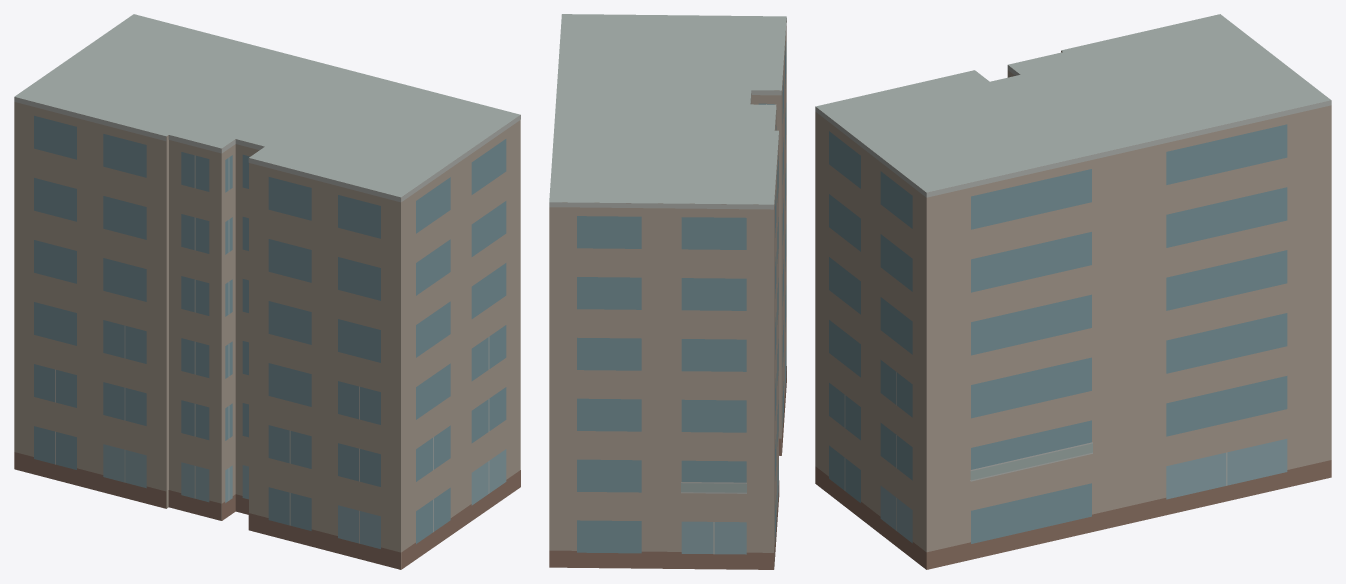
Rendered from survey-upis-33025665.glb.
The picture shows the model from 3 angles, left to right: view 1: azimuth 30°, elevation 25°; view 2: azimuth 150°, elevation 25°; view 3: azimuth 270°, elevation 25°; orthographic projection. The views are drawn at different scales.
Parts seen in each view (by area): view 1: survey-upis-33025665.tmp; view 2: survey-upis-33025665.tmp; view 3: survey-upis-33025665.tmp.
Part boxes in pixels (left/top/right/bottom): survey-upis-33025665.tmp: left=14, top=14, right=520, bottom=569; survey-upis-33025665.tmp: left=549, top=14, right=786, bottom=569; survey-upis-33025665.tmp: left=815, top=14, right=1331, bottom=569.
Size of the model in its own units: 18.5 by 18.2 by 22.58.
